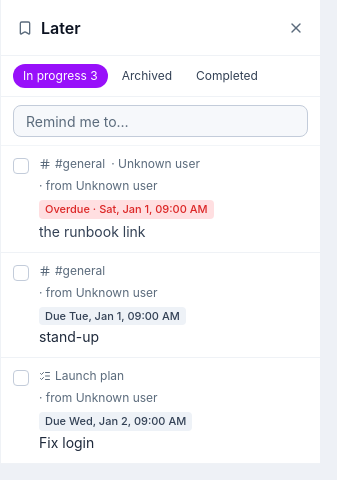
it: LaterPanel › shows the empty state of each tab
Click the tab with test id "later-tab-completed". click: [227, 76]
box: [186, 64, 268, 88]
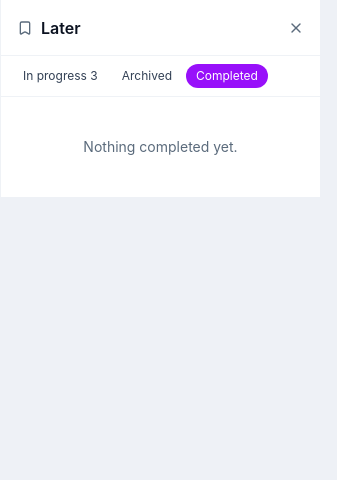
Result: the text with test id "later-empty" shows "Nothing completed yet" at [83, 138, 238, 155]
